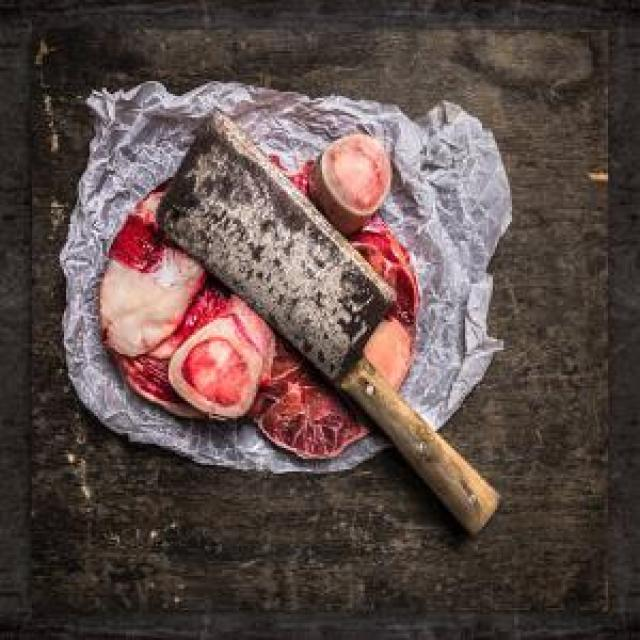knife: (51, 102, 532, 536)
